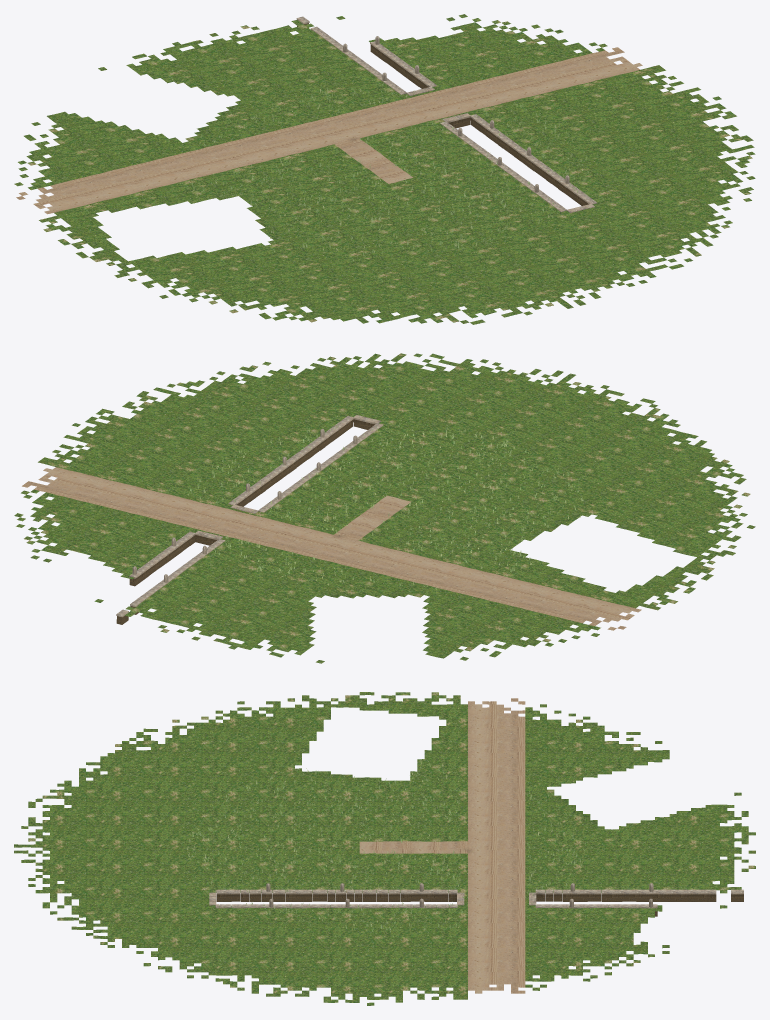
The picture shows the model from 3 angles, top to bottom: view 1: azimuth 30°, elevation 25°; view 2: azimuth 150°, elevation 25°; view 3: azimuth 270°, elevation 25°; orthographic projection.
Visible parts, largest first — view 1: field, road, coping, grass, block, grass2; view 2: field, road, coping, grass, block, grass2; view 3: field, road, coping, block, grass, grass2.
Part boxes in pixels (x1=…): field: x1=14, y1=14, x2=755, y2=324; road: x1=16, y1=47, x2=642, y2=214; coping: x1=296, y1=16, x2=597, y2=212; grass: x1=191, y1=81, x2=588, y2=255; block: x1=297, y1=23, x2=588, y2=205; grass2: x1=193, y1=88, x2=585, y2=253; field: x1=14, y1=353, x2=755, y2=663; road: x1=22, y1=467, x2=641, y2=630; coping: x1=116, y1=415, x2=383, y2=617; grass: x1=188, y1=423, x2=583, y2=591; block: x1=116, y1=419, x2=374, y2=624; grass2: x1=203, y1=425, x2=582, y2=591; field: x1=14, y1=692, x2=755, y2=1005; road: x1=359, y1=698, x2=525, y2=993; coping: x1=209, y1=883, x2=743, y2=908; block: x1=216, y1=894, x2=743, y2=916; grass: x1=191, y1=764, x2=582, y2=932; grass2: x1=187, y1=760, x2=585, y2=929.
Size of the model in its own units: 51.5 by 1.28 by 51.5.
7 materials, 5 textured.
